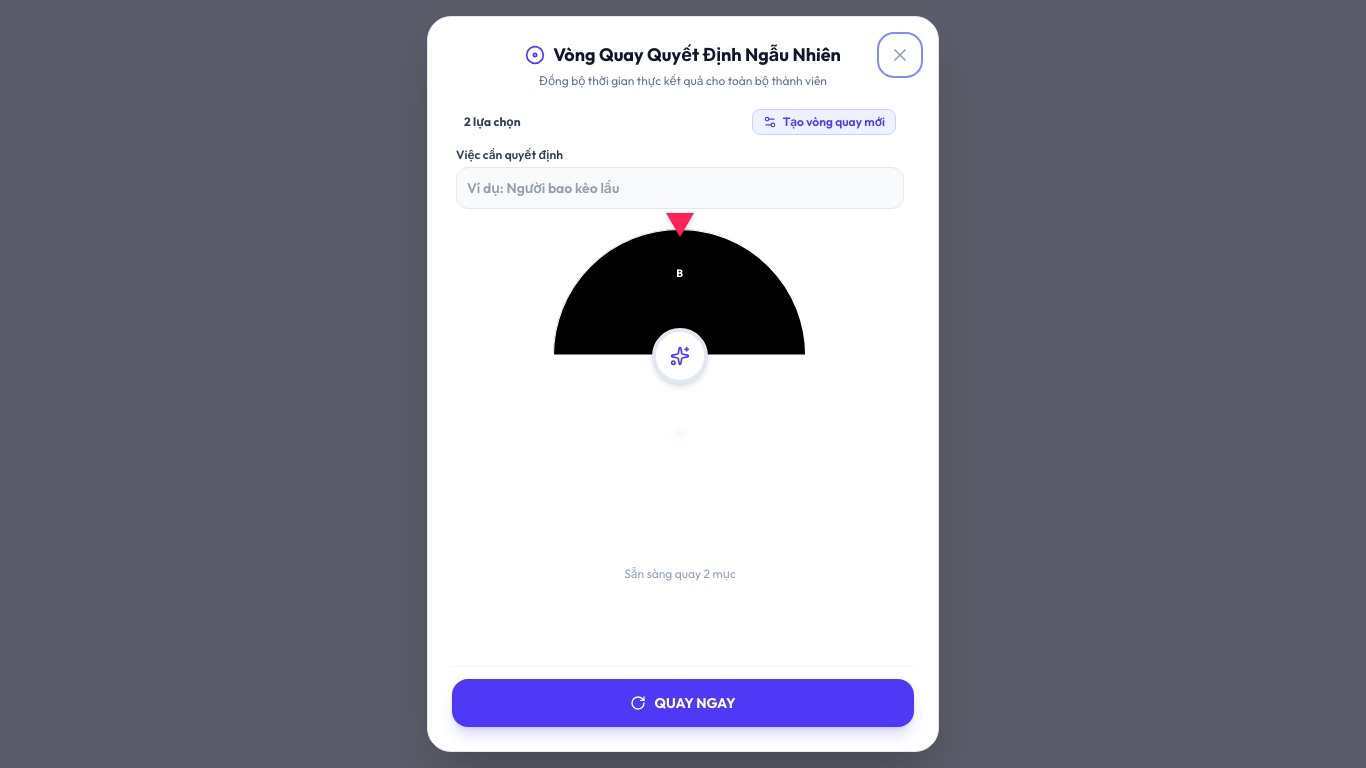
Test case: does not fabricate a local winner when the server rejects a spin
This screenshot has width=1366, height=768.
Click the button "QUAY NGAY".
click(683, 703)  # box [452,679,914,727]
Wait 4200 ms
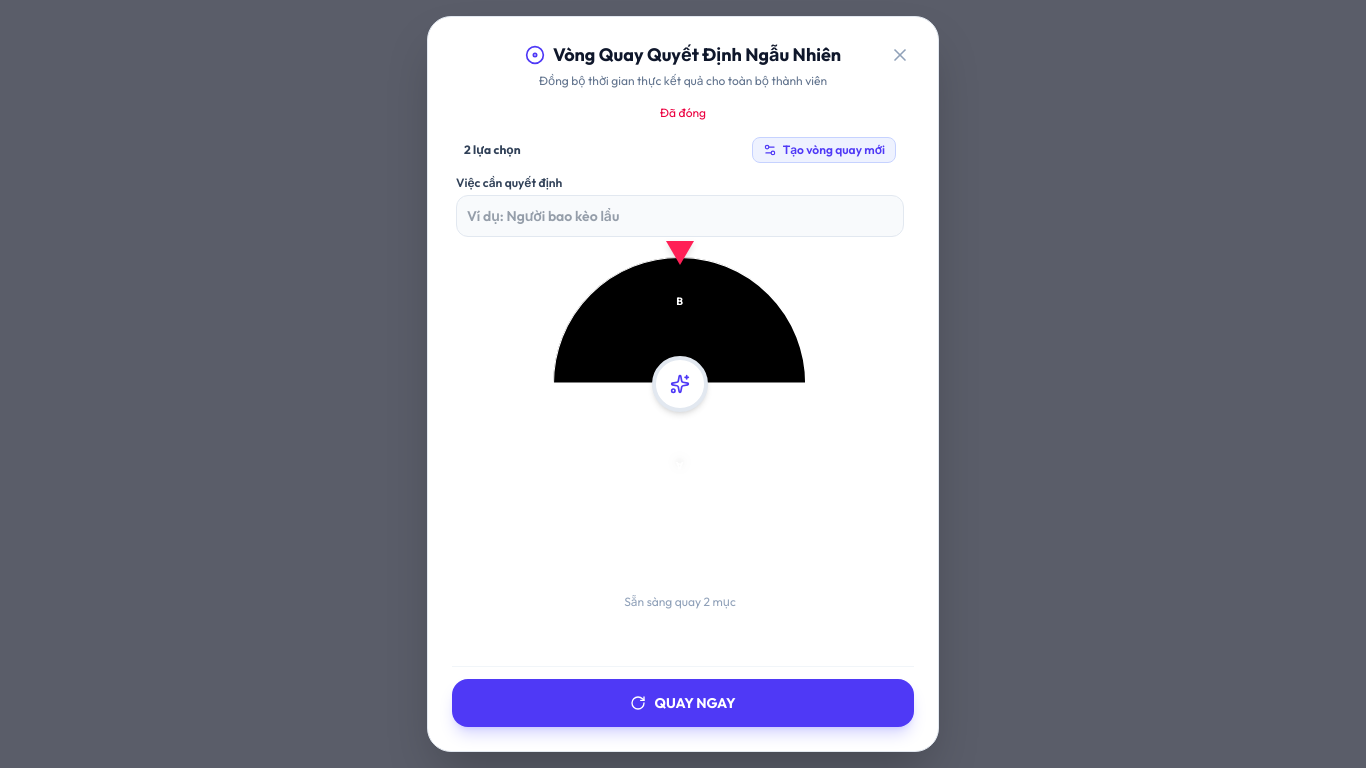
Expected: the message reads "Đã đóng", [660,105,706,120]
